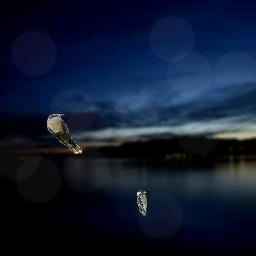Cuckoo: (47, 114, 82, 154)
Woodpecker: (137, 190, 147, 216)
